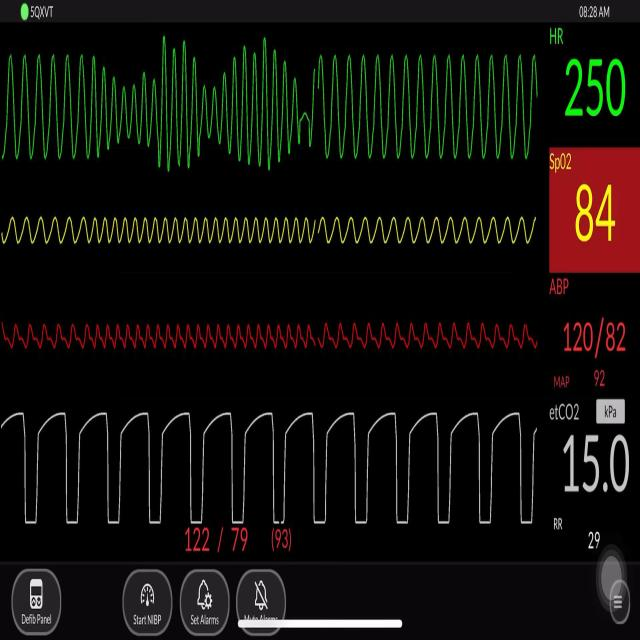danger: (113, 22, 302, 195), (307, 36, 545, 173), (7, 36, 98, 180)
